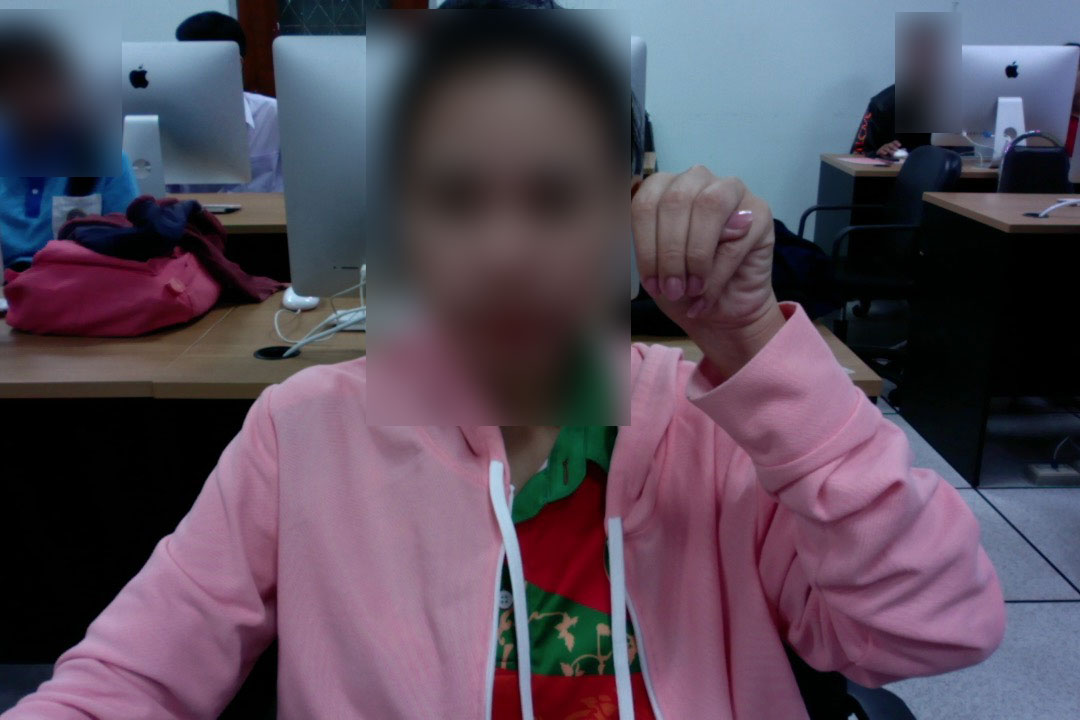mor: (623, 161, 780, 338)
